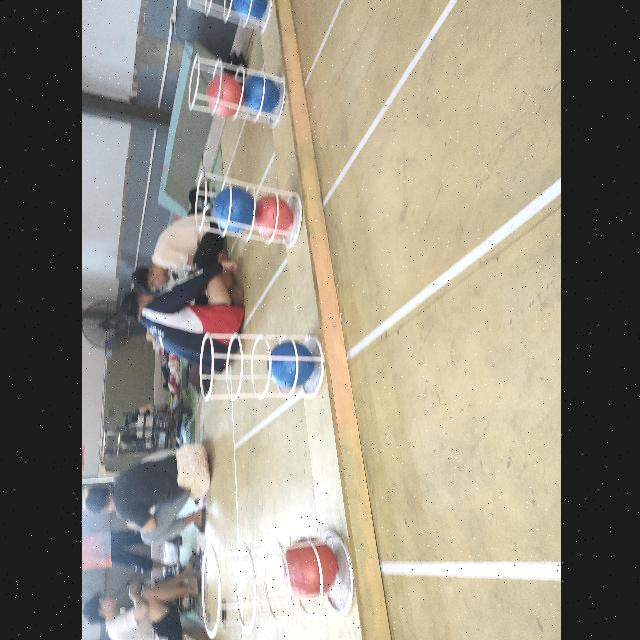R: (279, 538, 335, 598), (266, 342, 310, 388), (211, 188, 253, 232), (202, 74, 242, 118), (252, 196, 292, 238), (242, 72, 278, 116), (230, 0, 266, 18)
